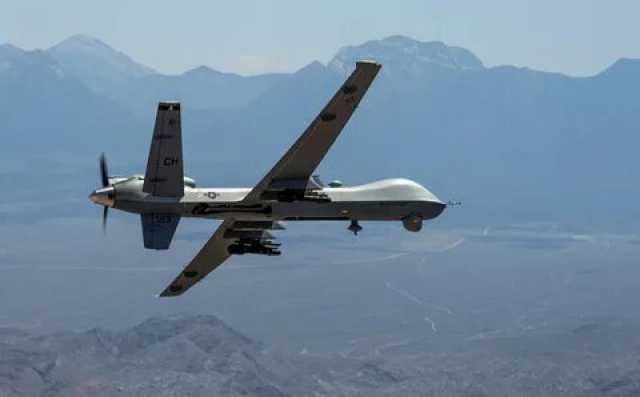military drone: (88, 61, 460, 297)
